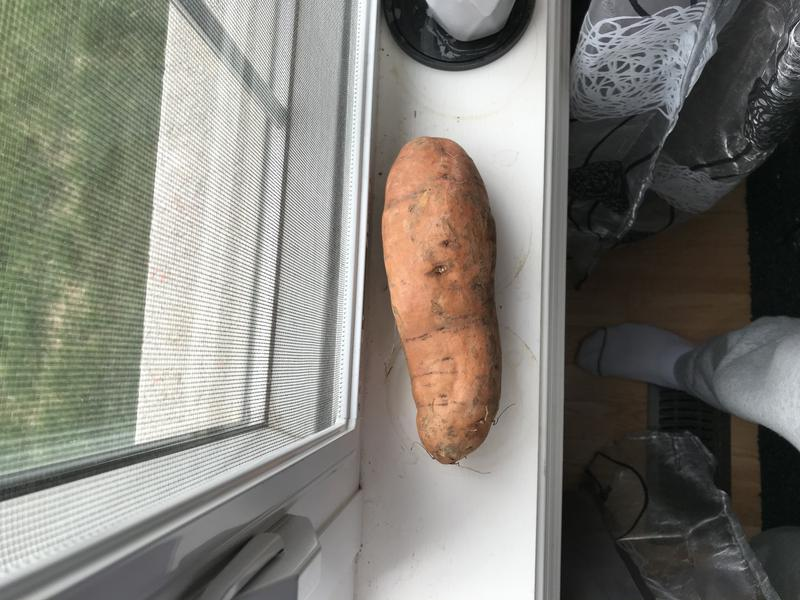sweet_potato: (370, 128, 510, 478)
